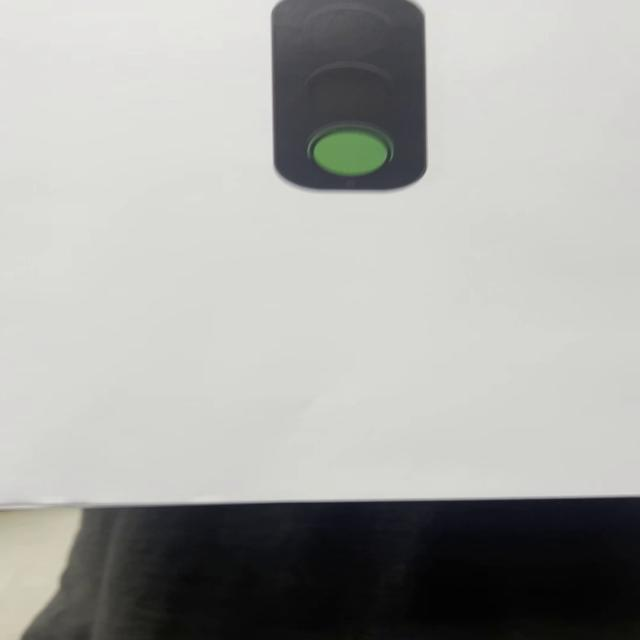green: (266, 1, 430, 186)
